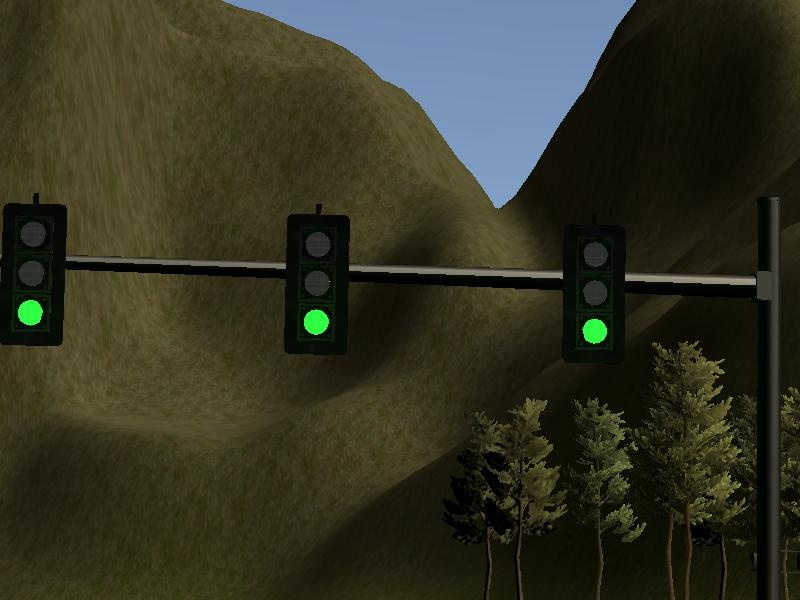green: (560, 225, 630, 365), (1, 205, 66, 344), (284, 217, 348, 352)
